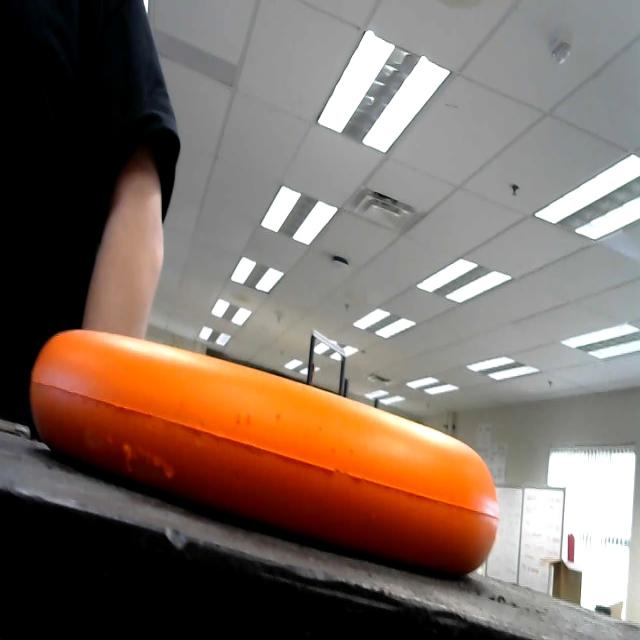note: (20, 305, 512, 602)
